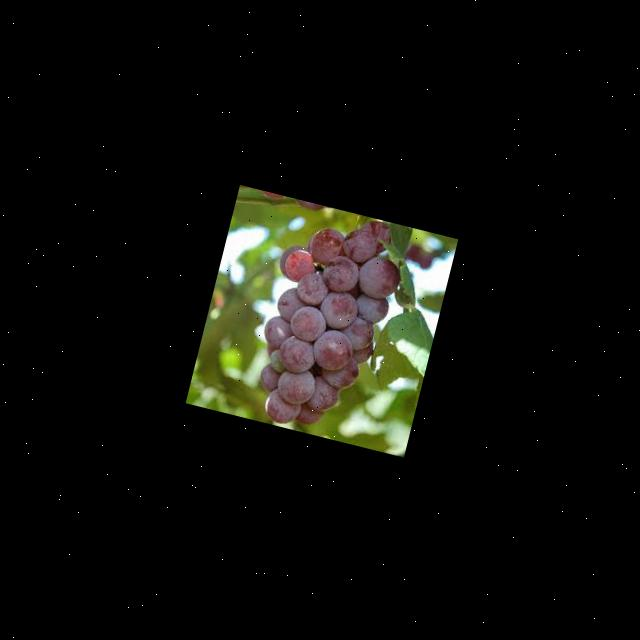grape: (239, 198, 412, 442)
